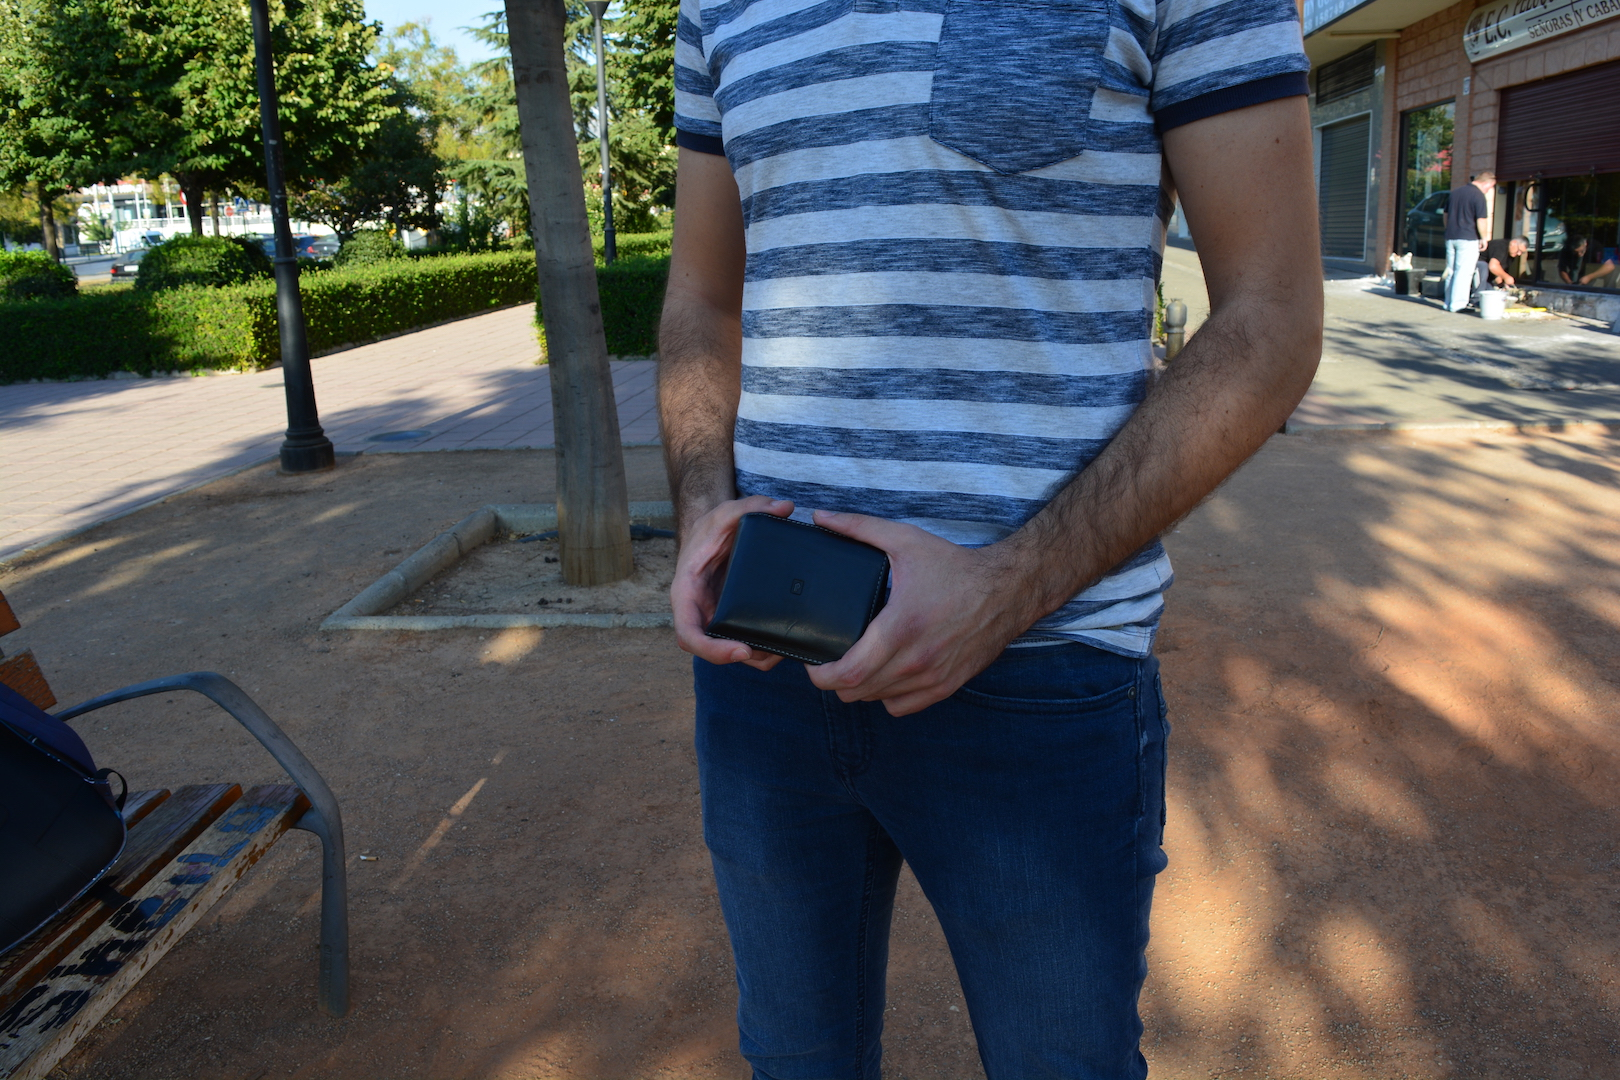monedero: (706, 510, 891, 667)
